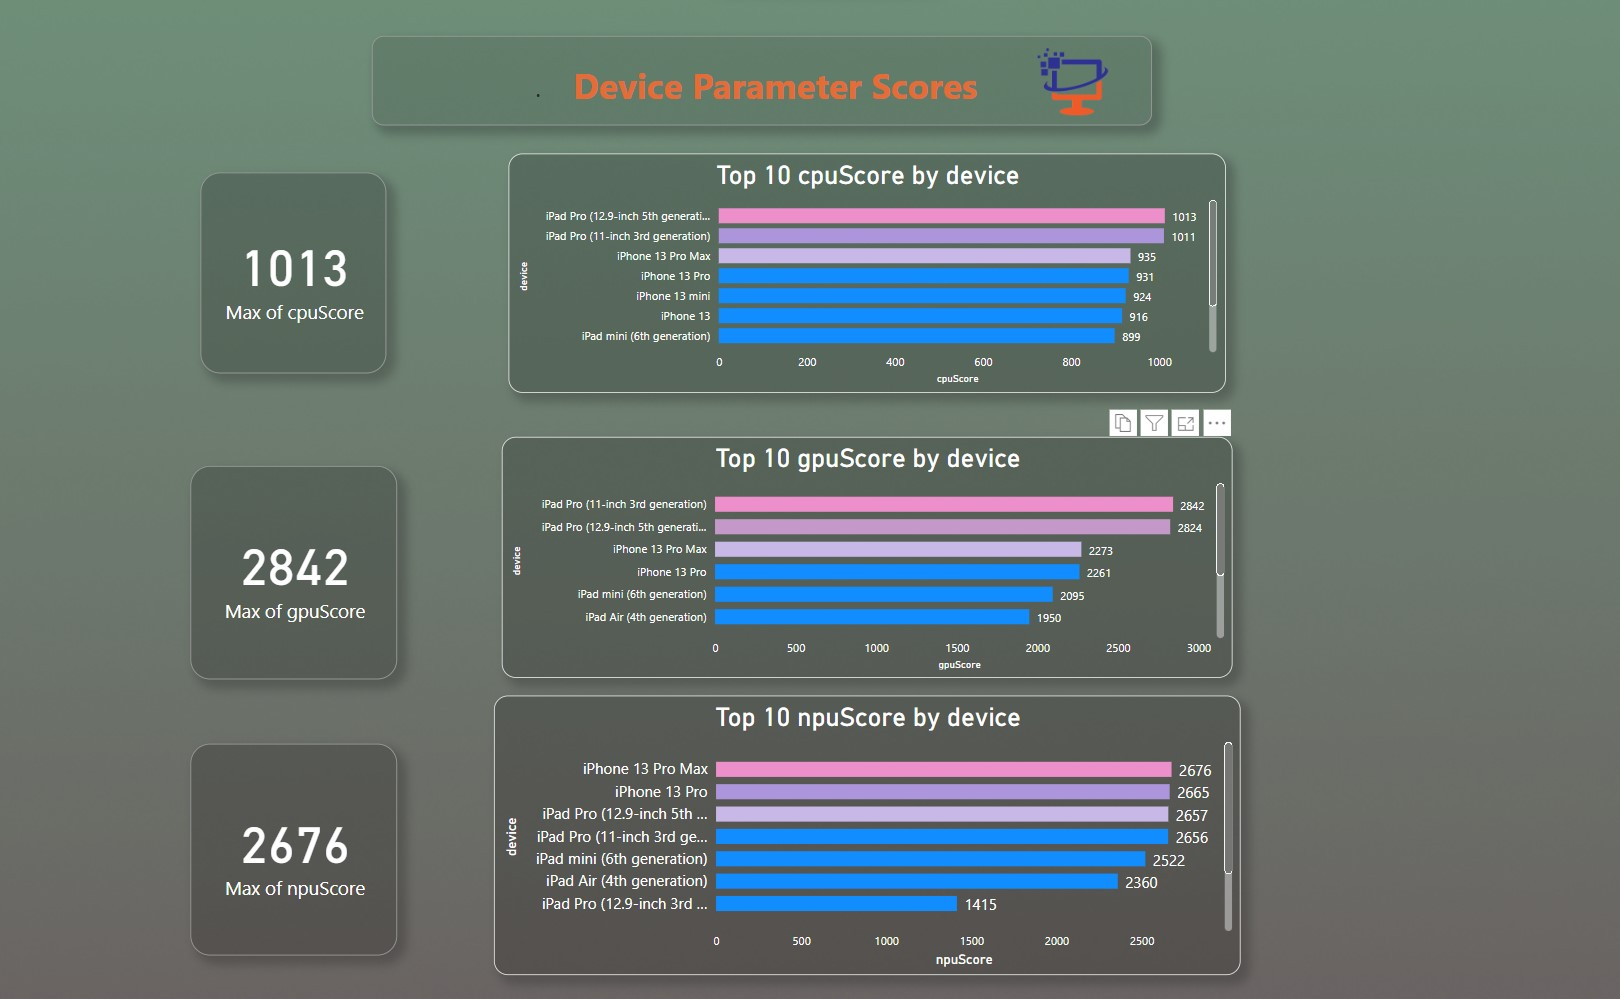

Layout of this report page (visuals, bound fields, positions):
{"tool":"powerbi","page":{"name":"Device Scores","canvas":[1729,1067],"ordinal":0},"visuals":[{"type":"card","fields":{"Values":["Max(ML_ALL_benchmarks.cpuScore)"]},"box":[214.2,184,198.4,214.2],"z":0},{"type":"card","fields":{"Values":["Max(ML_ALL_benchmarks.gpuScore)"]},"box":[203.7,496.7,220.8,227.3],"z":1000},{"type":"card","fields":{"Values":["Max(ML_ALL_benchmarks.npuScore)"]},"box":[203.7,793.7,220.8,226],"z":2000},{"type":"clusteredBarChart","title":"Top 10 cpuScore by device","fields":{"Category":["ML_ALL_benchmarks.device"],"Y":["Sum(ML_ALL_benchmarks.cpuScore)"]},"box":[542.7,164.3,764.8,254.9],"z":3000},{"type":"clusteredBarChart","title":"Top 10 gpuScore by device","fields":{"Category":["ML_ALL_benchmarks.device"],"Y":["Sum(ML_ALL_benchmarks.gpuScore)"]},"box":[534.8,466.5,779.2,257.6],"z":4000},{"type":"clusteredBarChart","title":"Top 10 npuScore by device","fields":{"Category":["ML_ALL_benchmarks.device"],"Y":["Sum(ML_ALL_benchmarks.npuScore)"]},"box":[526.9,742.4,796.3,298.3],"z":5000},{"type":"textbox","box":[396.8,38.1,831.8,95.9],"z":5001},{"type":"image","box":[1046,23.7,194.5,126.1],"z":5002}]}

Visuals, with their boxes in screenshot pixels (x1, y1, x2, y2), scaled from the page's 1729x1067 canvas onto the 1620x999 screenshot:
card - Max(ML_ALL_benchmarks.cpuScore): [x1=201, y1=172, x2=387, y2=373]
card - Max(ML_ALL_benchmarks.gpuScore): [x1=191, y1=465, x2=398, y2=678]
card - Max(ML_ALL_benchmarks.npuScore): [x1=191, y1=743, x2=398, y2=955]
"Top 10 cpuScore by device" clusteredBarChart: [x1=508, y1=154, x2=1225, y2=392]
"Top 10 gpuScore by device" clusteredBarChart: [x1=501, y1=437, x2=1231, y2=678]
"Top 10 npuScore by device" clusteredBarChart: [x1=494, y1=695, x2=1240, y2=974]
textbox: [x1=372, y1=36, x2=1151, y2=125]
image: [x1=980, y1=22, x2=1162, y2=140]
